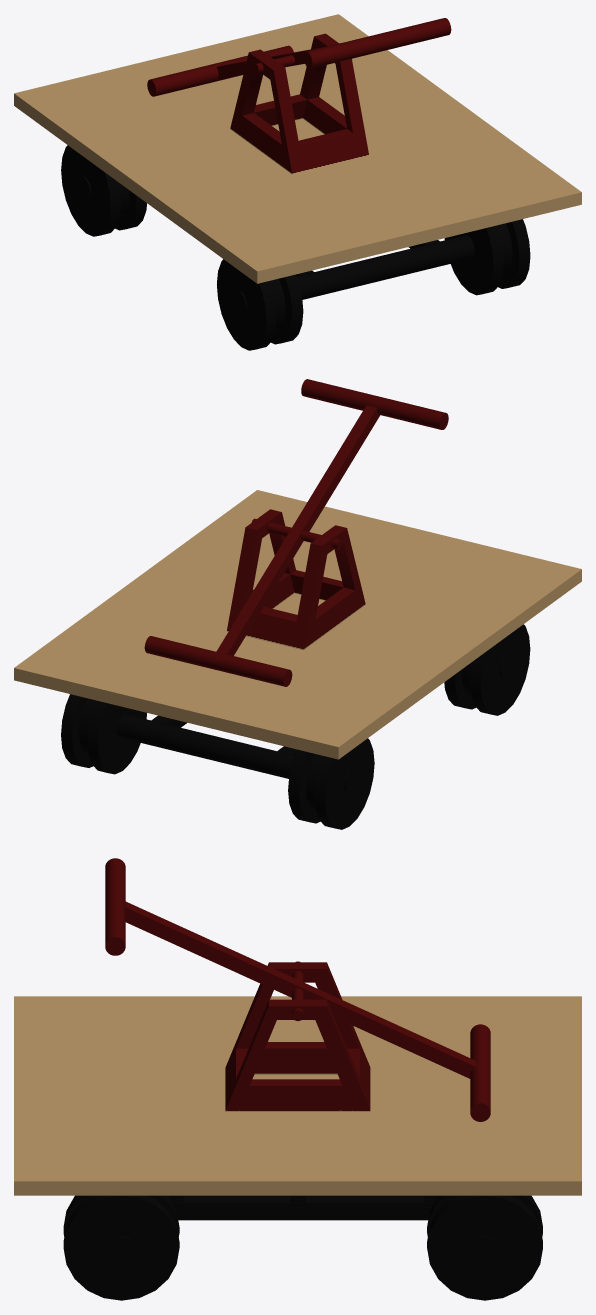
Rendered from FBX_Pushcart_Update.fbx.
3 renders of one model, top to bottom at view 1: azimuth 30°, elevation 25°; view 2: azimuth 150°, elevation 25°; view 3: azimuth 270°, elevation 25°, orthographic. The views are drawn at different scales.
Visible parts, largest first — view 1: pCube56, pCube54; view 2: pCube56, pCube54; view 3: pCube56, pCube54.
Part boxes in pixels (x1=…): pCube56: x1=14, y1=14, x2=581, y2=350; pCube54: x1=147, y1=18, x2=451, y2=96; pCube56: x1=14, y1=490, x2=581, y2=829; pCube54: x1=144, y1=379, x2=448, y2=686; pCube56: x1=14, y1=961, x2=581, y2=1300; pCube54: x1=105, y1=858, x2=490, y2=1121.
Size of the model in its own units: 7.54 by 6.25 by 9.79.
1 material, 1 textured.
